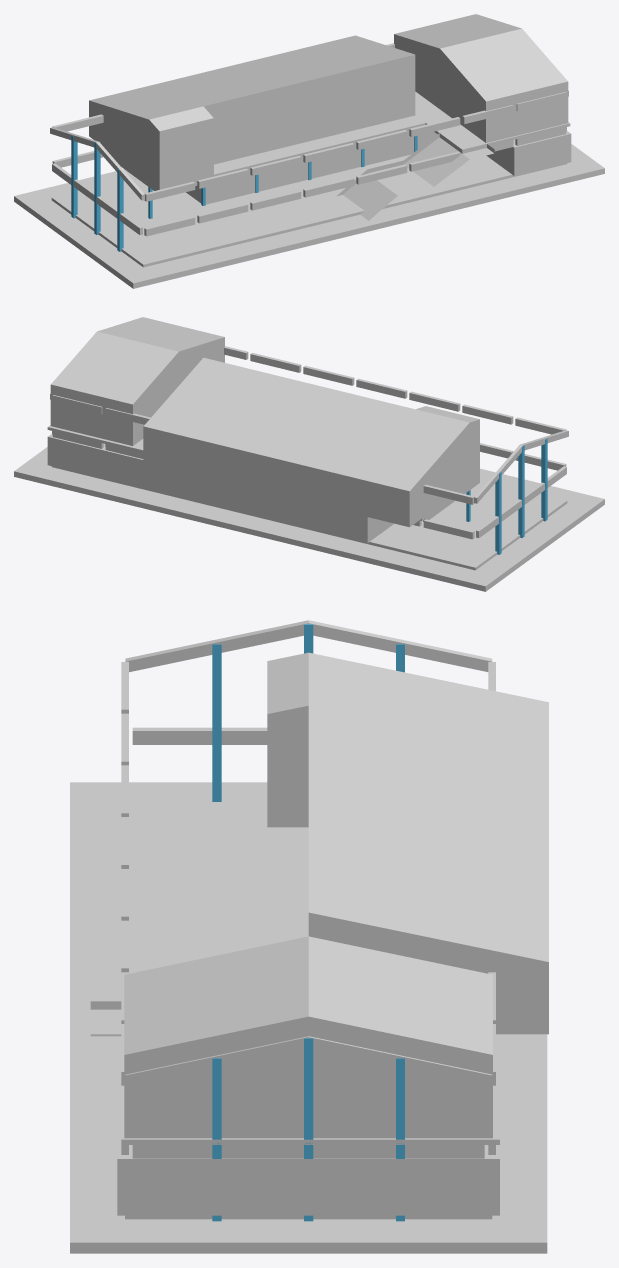
3 renders of one model, top to bottom at view 1: azimuth 30°, elevation 25°; view 2: azimuth 150°, elevation 25°; view 3: azimuth 270°, elevation 25°, orthographic. The views are drawn at different scales.
Visible parts, largest first — view 1: floor, 206, floor.001, 201, 204, 205, 203, floor.002, 202, floor.003, 101, 102 (+20 smaller); view 2: floor.001, 206, 201, floor, 204, 203, 202, 205, 101, 103, Cube.011, col.002 (+13 smaller); view 3: 206, floor.001, floor, 205, 201, 203, 202, 204, 102, 103, beam_bbm_Plane.049, floor.002 (+5 smaller).
Part boxes in pixels (bbox=[...]): floor: bbox=[51, 154, 567, 267]; 206: bbox=[394, 14, 568, 142]; floor.001: bbox=[14, 144, 604, 288]; 201: bbox=[89, 87, 213, 187]; 204: bbox=[250, 48, 362, 141]; 205: bbox=[303, 35, 415, 128]; 203: bbox=[197, 61, 309, 153]; floor.002: bbox=[105, 91, 570, 189]; 202: bbox=[144, 74, 256, 164]; floor.003: bbox=[336, 133, 494, 220]; 101: bbox=[186, 134, 414, 204]; 102: bbox=[486, 131, 571, 175]; floor.001: bbox=[14, 447, 604, 591]; 206: bbox=[50, 317, 224, 445]; 201: bbox=[355, 406, 479, 527]; floor: bbox=[51, 466, 567, 570]; 204: bbox=[196, 370, 309, 487]; 203: bbox=[249, 383, 361, 500]; 202: bbox=[302, 396, 414, 513]; 205: bbox=[143, 357, 256, 474]; 101: bbox=[153, 465, 393, 543]; 103: bbox=[47, 434, 105, 478]; Cube.011: bbox=[96, 443, 153, 490]; col.002: bbox=[495, 438, 547, 554]; 206: bbox=[124, 936, 492, 1138]; floor.001: bbox=[70, 782, 547, 1253]; floor: bbox=[125, 800, 492, 1219]; 205: bbox=[308, 861, 548, 1034]; 201: bbox=[267, 652, 548, 827]; 203: bbox=[308, 757, 548, 858]; 202: bbox=[308, 705, 548, 806]; 204: bbox=[308, 809, 548, 910]; 102: bbox=[117, 1103, 308, 1215]; 103: bbox=[308, 1145, 499, 1215]; beam_bbm_Plane.049: bbox=[125, 620, 492, 1086]; floor.002: bbox=[121, 827, 499, 1144].
Size of the model in its own units: 35.6 by 7.74 by 15.65.
